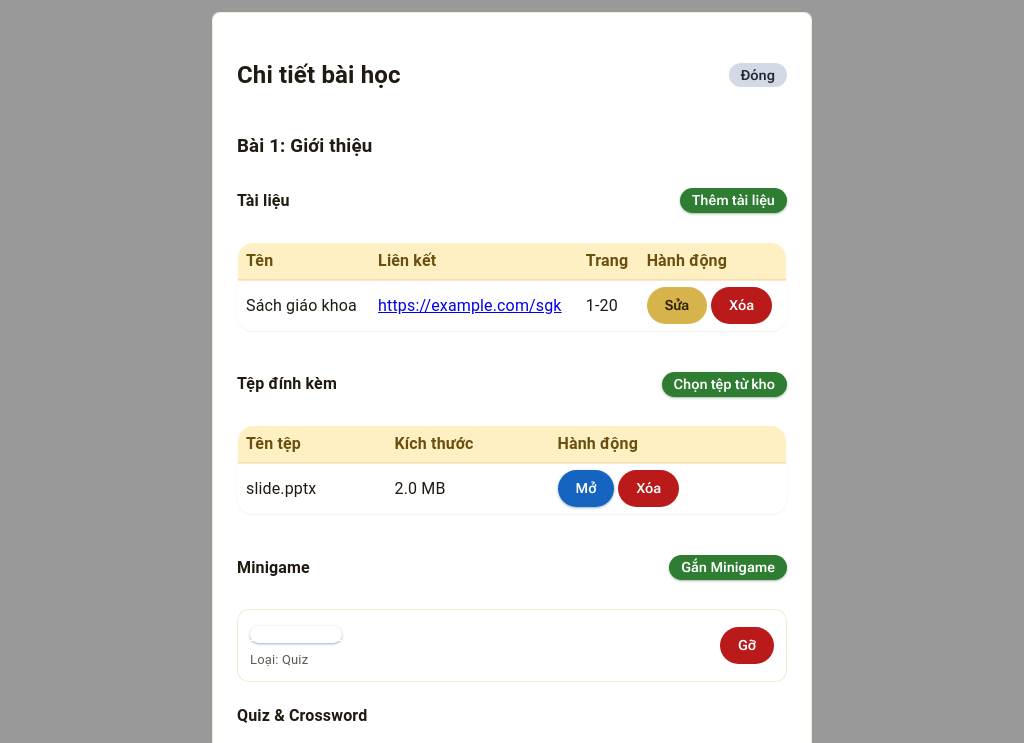
Scenario: LessonDetailModal › opens edit document form with pre-filled data
This screenshot has width=1024, height=743.
Click the button "Sửa". click: coordinates (677, 306)
box: [647, 287, 707, 324]
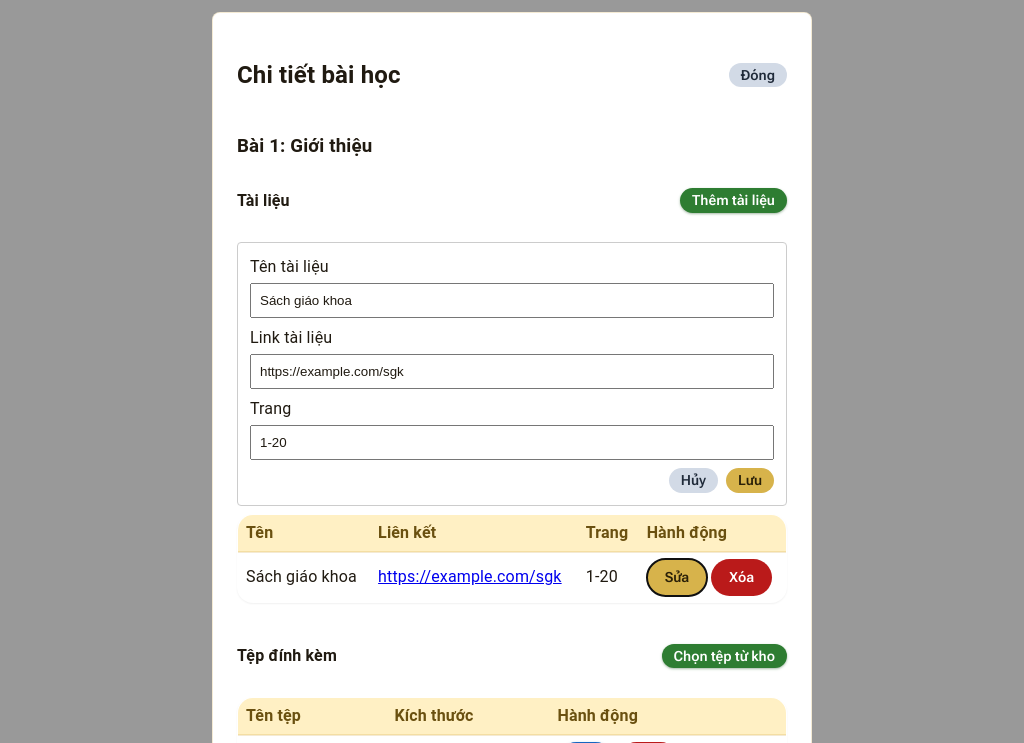
Expected: the field labelled "Tên tài liệu" holds "Sách giáo khoa", [250, 283, 774, 318]
Expected: the field labelled "Link tài liệu" holds "https://example.com/sgk", [250, 354, 774, 389]
Expected: the field labelled "Trang" holds "1-20", [250, 425, 774, 460]
